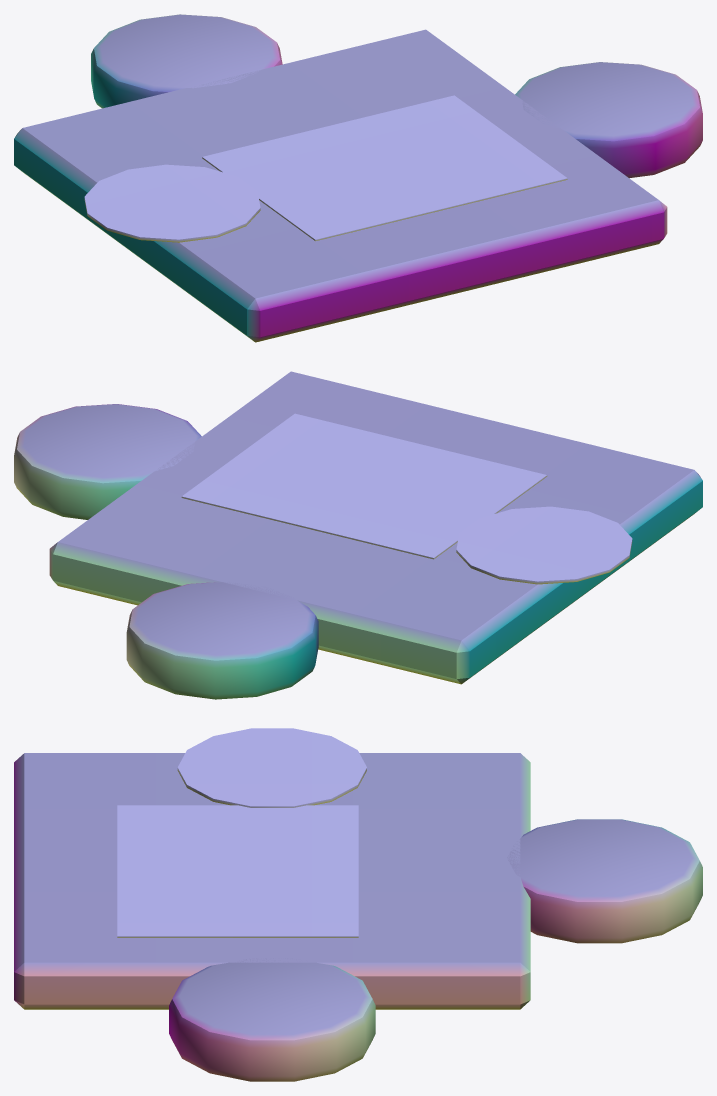
The model's file is env_deco_puzzle.glb.
3 renders of one model, top to bottom at view 1: azimuth 30°, elevation 25°; view 2: azimuth 150°, elevation 25°; view 3: azimuth 270°, elevation 25°, orthographic. The views are drawn at different scales.
Visible parts, largest first — view 1: env_deco_puzzle_mesh; view 2: env_deco_puzzle_mesh; view 3: env_deco_puzzle_mesh.
Part boxes in pixels (left/top/right/bottom): env_deco_puzzle_mesh: left=14, top=14, right=702, bottom=342; env_deco_puzzle_mesh: left=14, top=371, right=702, bottom=699; env_deco_puzzle_mesh: left=14, top=728, right=702, bottom=1081.
Size of the model in its own units: 0.4221 by 0.032 by 0.4.
